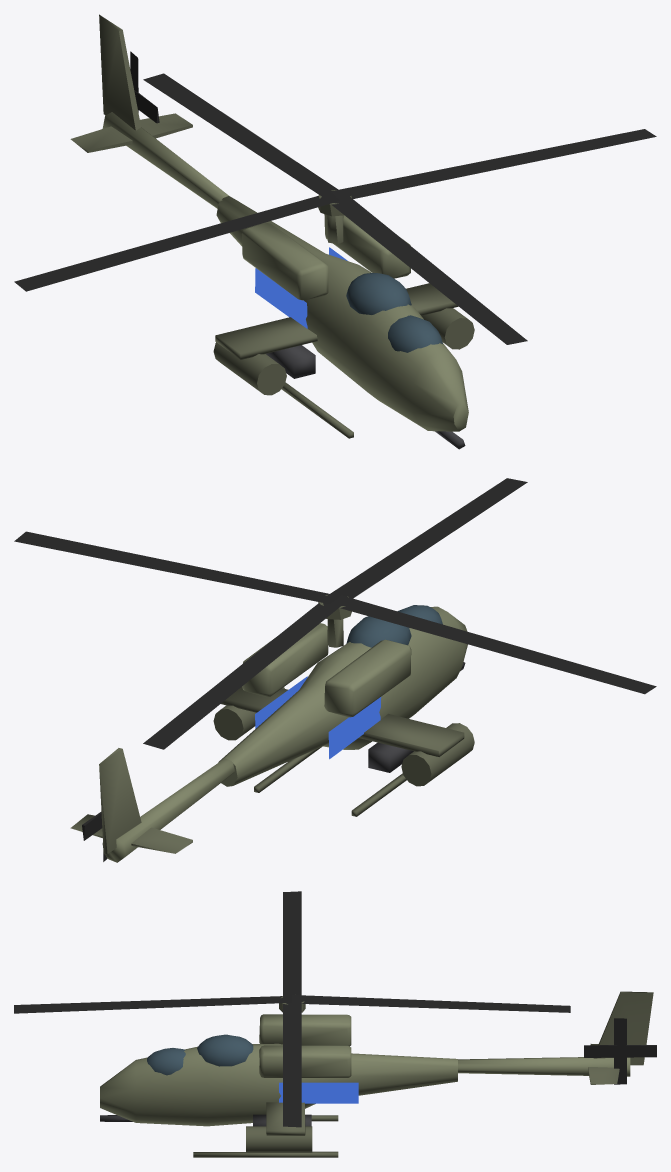
The model's file is helicopter_lod1.glb.
The picture shows the model from 3 angles, top to bottom: view 1: azimuth 30°, elevation 25°; view 2: azimuth 150°, elevation 25°; view 3: azimuth 270°, elevation 25°; orthographic projection. The views are drawn at different scales.
Parts seen in each view (by area): view 1: body, rotor, rotor_tail; view 2: body, rotor; view 3: body, rotor, rotor_tail.
Part boxes in pixels (box(x1,y1,x2,y2)): body: box(70, 14, 474, 449); rotor: box(14, 73, 656, 344); rotor_tail: box(130, 51, 159, 123); body: box(70, 605, 474, 862); rotor: box(14, 478, 656, 749); body: box(100, 991, 653, 1157); rotor: box(14, 891, 570, 1127); rotor_tail: box(584, 1018, 656, 1084).
Size of the model in its own units: 8.4 by 2.43 by 9.7.
